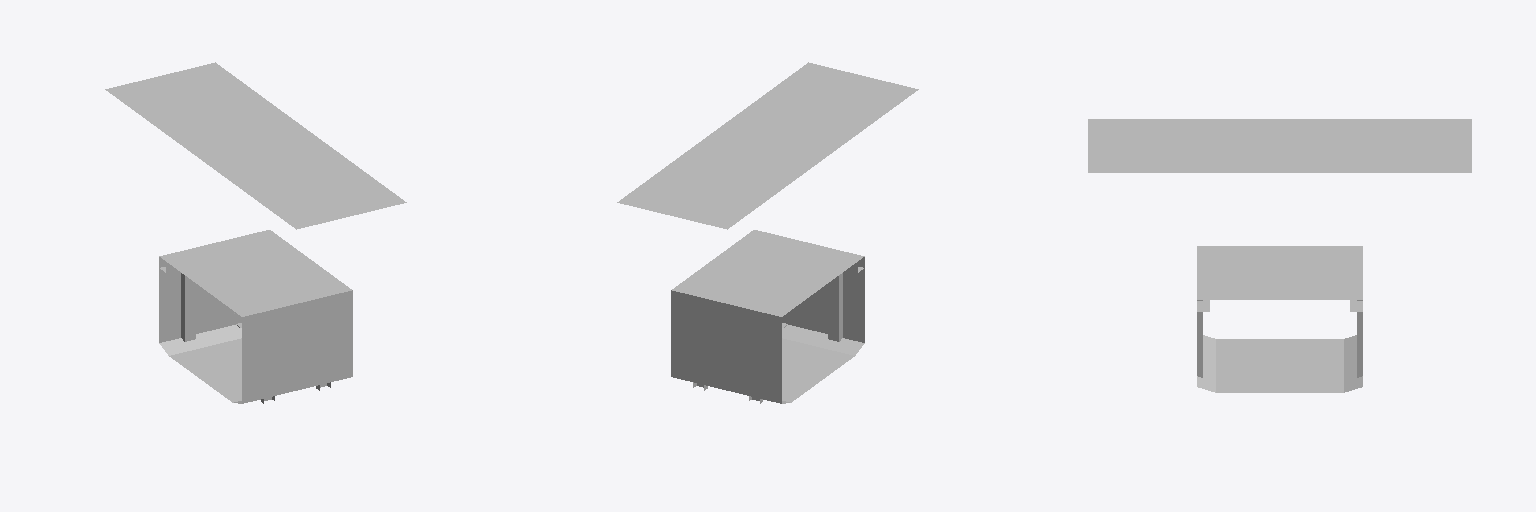
Rendered from Track_Mine_Straight_1x3.obj.
3 views of the same model, side by side, from view 1: azimuth 30°, elevation 25°; view 2: azimuth 150°, elevation 25°; view 3: azimuth 270°, elevation 25° (orthographic).
Parts seen in each view (by area): view 1: object12, object1, object11; view 2: object12, object1, object5; view 3: object1, object12.
Boxes of the visible parts, x1=… form: object12: x1=159, y1=230, x2=352, y2=403; object1: x1=105, y1=62, x2=406, y2=229; object11: x1=181, y1=273, x2=195, y2=341; object12: x1=671, y1=230, x2=864, y2=403; object1: x1=617, y1=62, x2=918, y2=229; object5: x1=828, y1=273, x2=842, y2=341; object1: x1=1088, y1=119, x2=1471, y2=172; object12: x1=1197, y1=246, x2=1362, y2=392.
Size of the model in its own units: 1 by 1.9 by 3.